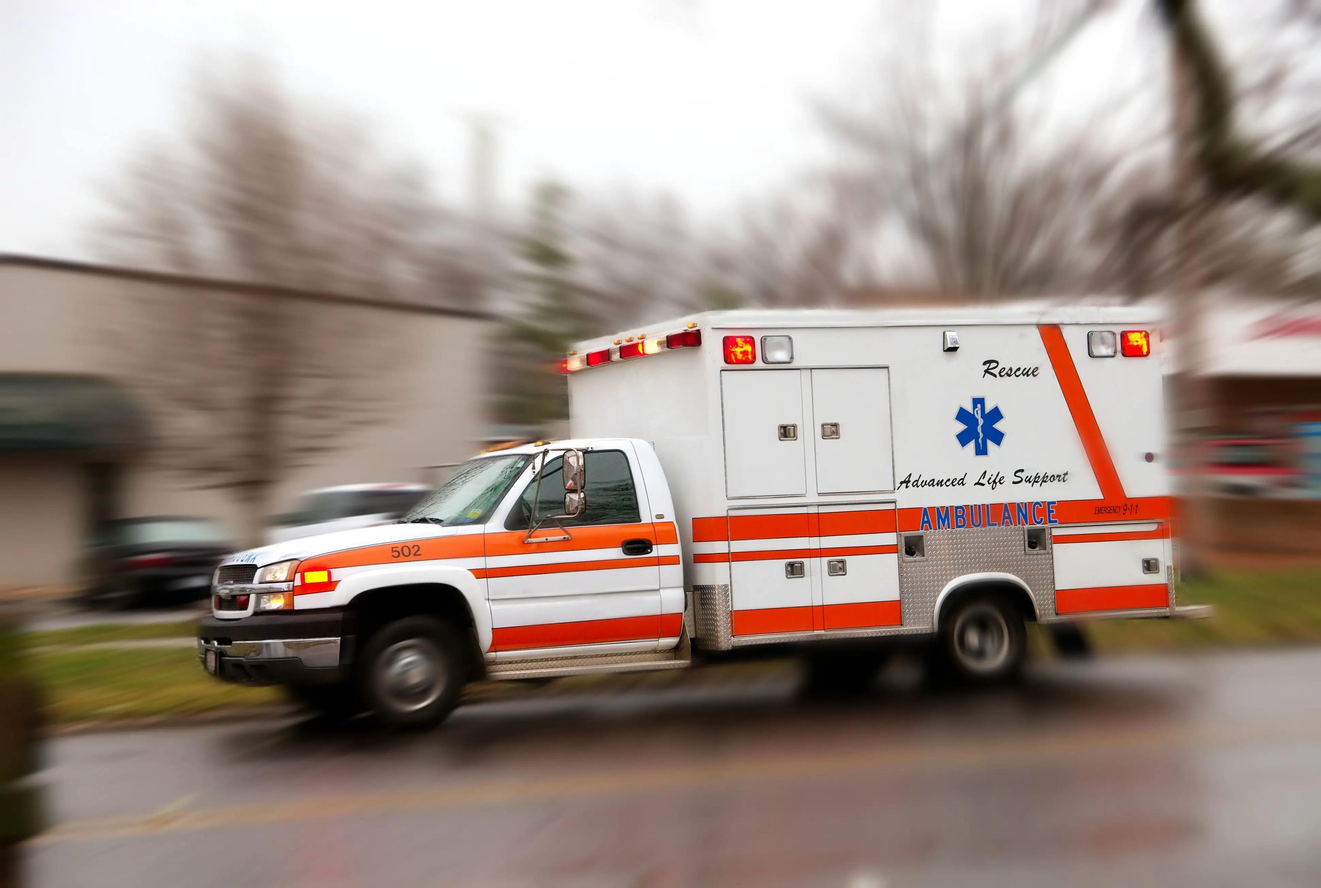Ambulance: (951, 392, 1009, 461)
